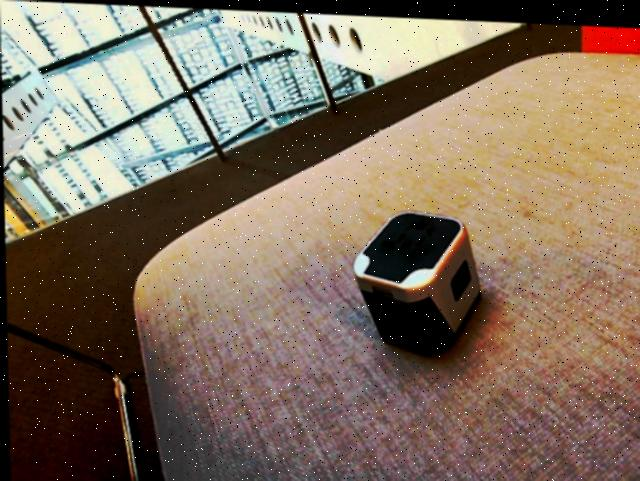adapter: (349, 204, 480, 355)
